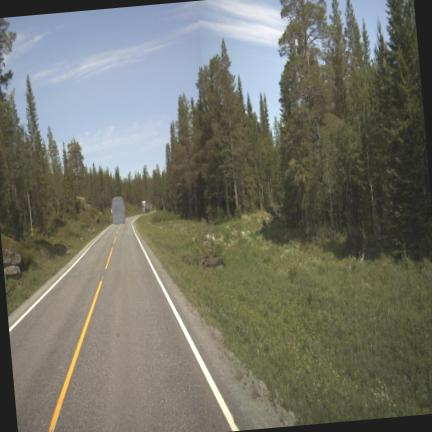Road: (8, 218, 232, 431)
